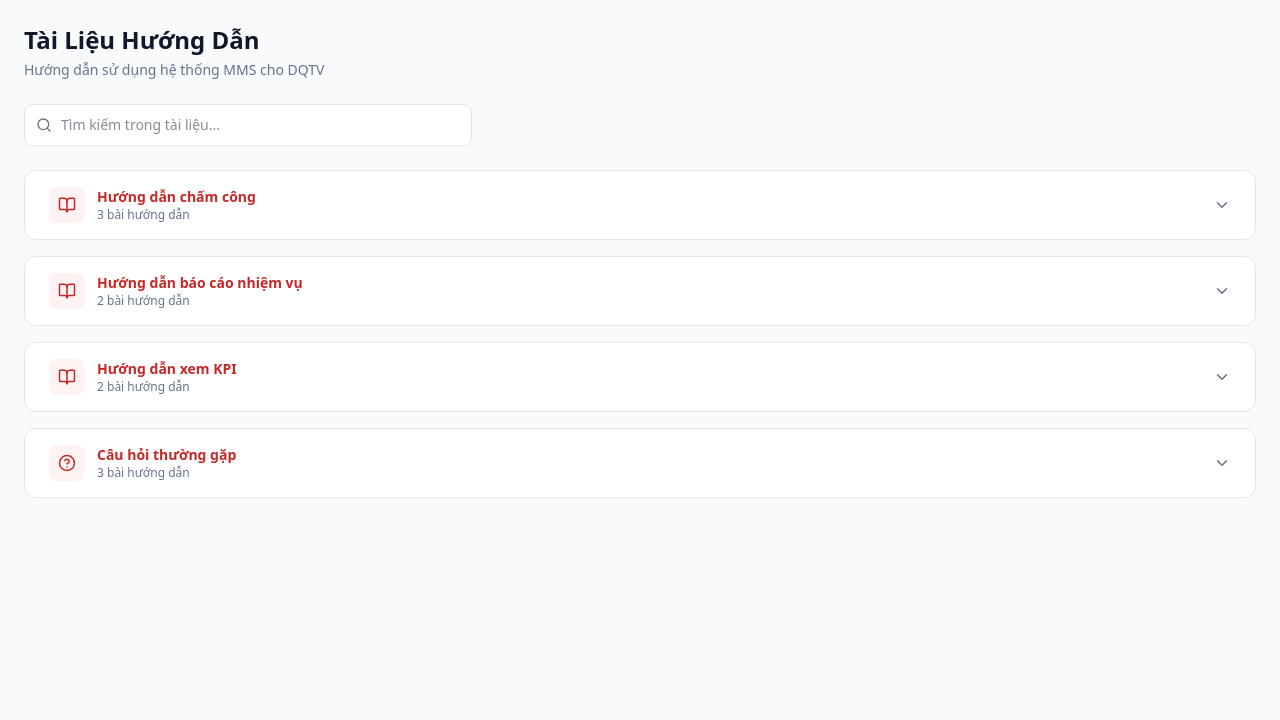
Scenario: DocumentationPage › collapses section on second click
The image size is (1280, 720).
Click the button with test id "section-attendance": (67, 205) top-left (25, 171), bottom-right (1255, 239)
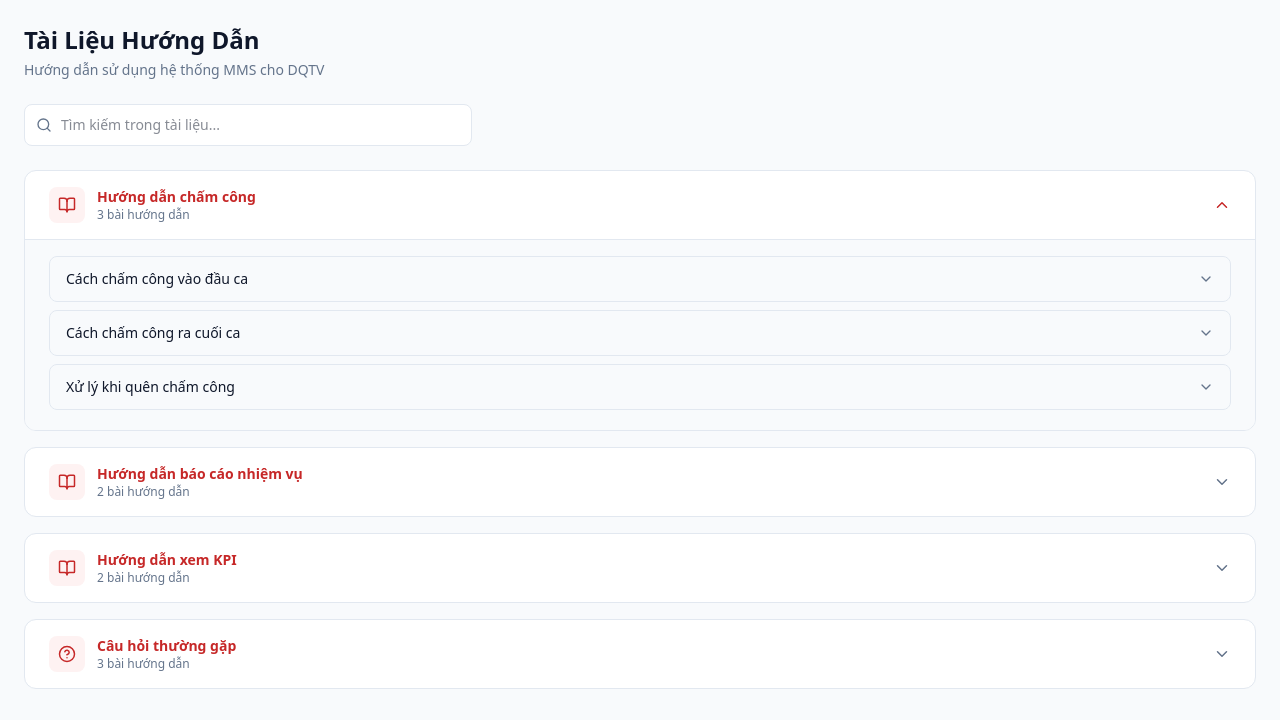
Click the button with test id "section-attendance": (67, 205) top-left (25, 171), bottom-right (1255, 239)
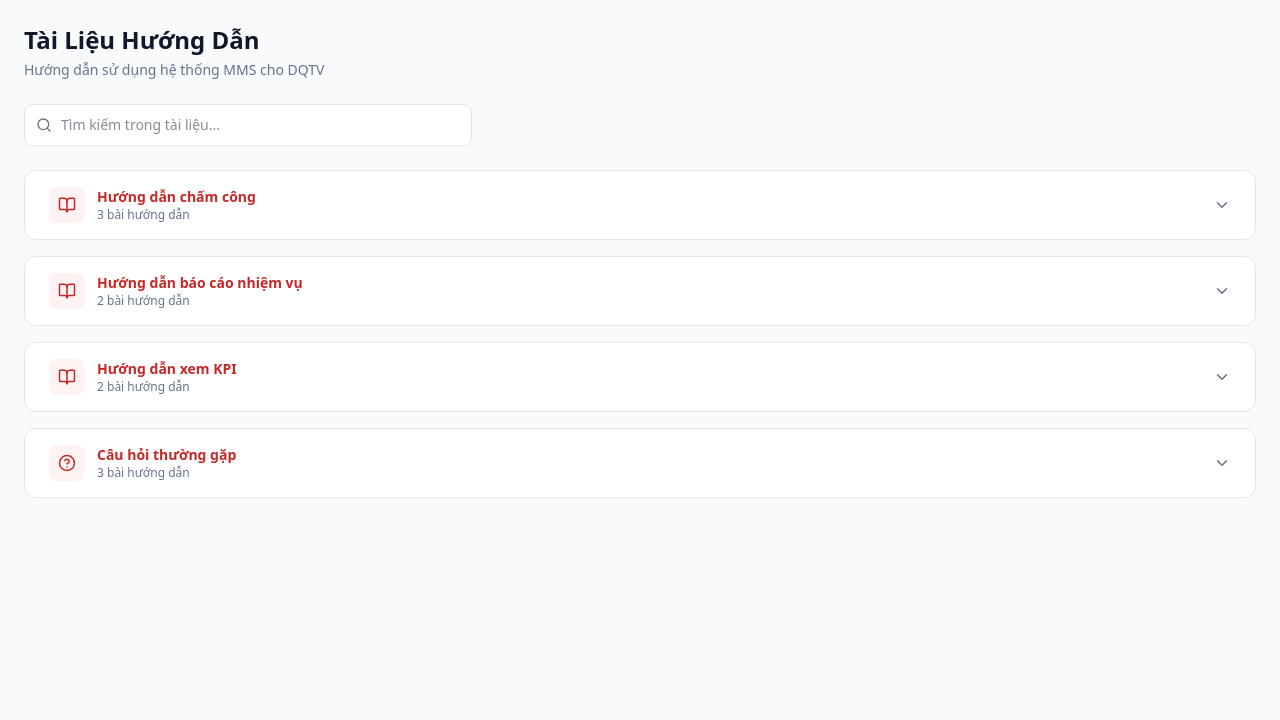
Check: the button "Cách chấm công vào đầu ca" is gone
